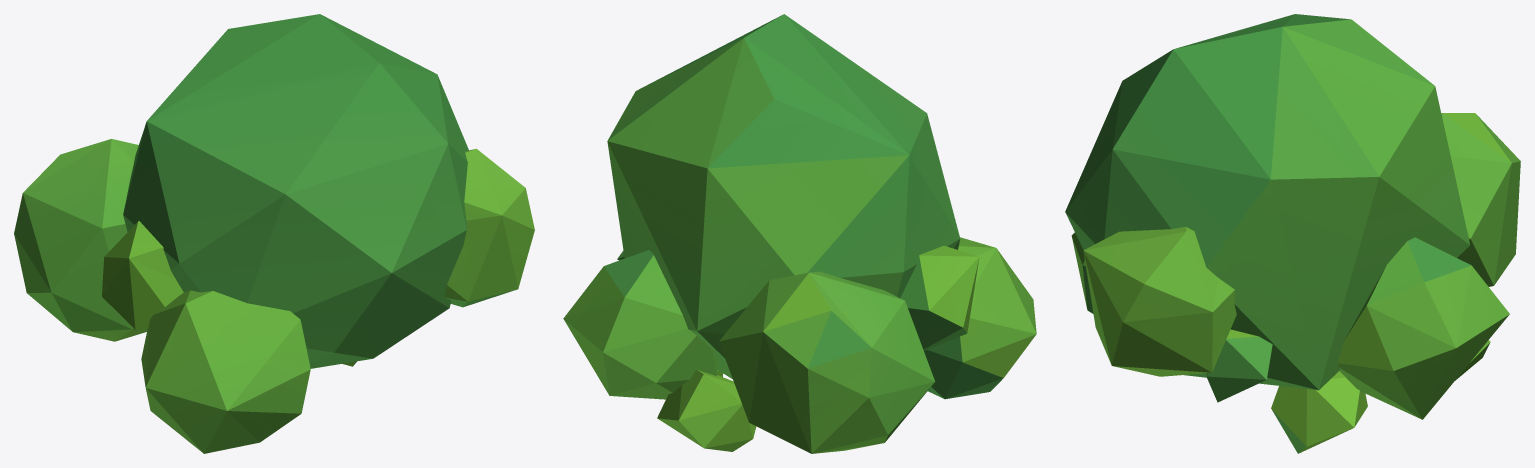
Rendered from Plant_1.fbx.
3 renders of one model, left to right at view 1: azimuth 30°, elevation 25°; view 2: azimuth 150°, elevation 25°; view 3: azimuth 270°, elevation 25°, orthographic. The views are drawn at different scales.
Visible parts, largest first — view 1: Plant_1; view 2: Plant_1; view 3: Plant_1.
Part boxes in pixels (x1,y1,x2,y2): Plant_1: [14, 14, 534, 453]; Plant_1: [563, 14, 1036, 453]; Plant_1: [1065, 14, 1520, 453].
Size of the model in its own units: 0.6351 by 0.5868 by 0.5971.
